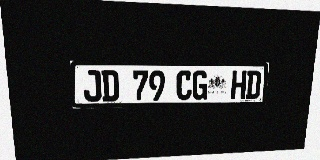7: (132, 70, 148, 101)
9: (149, 70, 165, 101)
C: (176, 70, 192, 100)
D: (101, 70, 119, 101), (245, 71, 261, 99)
G: (192, 70, 208, 100)
H: (231, 71, 247, 99)
J: (83, 70, 101, 102)
